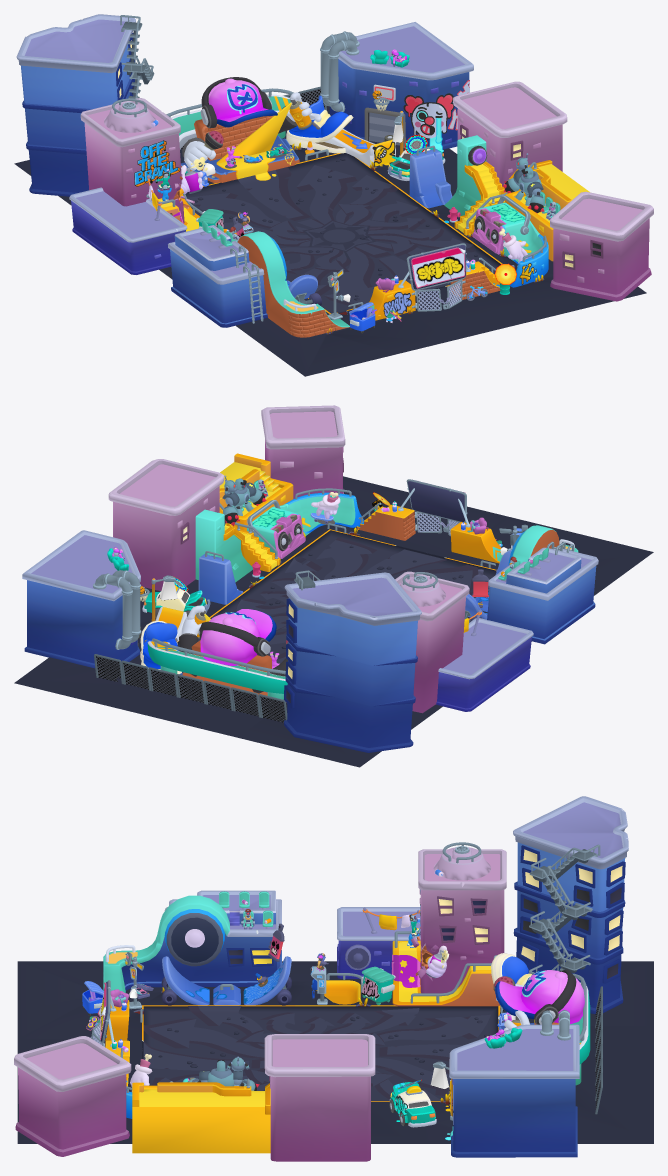
File: skatepark_environment.glb
3 renders of one model, top to bottom at view 1: azimuth 30°, elevation 25°; view 2: azimuth 150°, elevation 25°; view 3: azimuth 270°, elevation 25°, orthographic. The views are drawn at different scales.
Visible parts, largest first — view 1: bgr_skatepark_playground_bup_003, bgr_skatepark_ground_side_001, bgr_skatepark_House_001, bgr_skatepark_BuildingStairs_001, bgr_skatepark_BuildingCorner_001, bgr_skatepark_Building1_001, bgr_skatepark_Building4_001, bgr_skatepark_building5_001, bgr_skatepark_building4_003, bgr_skatepark_BoomboxRamp_008, bgr_skatepark_cap_007, bgr_skatepark_spraystage_002 (+19 smaller); view 2: bgr_skatepark_House_001, bgr_skatepark_ground_side_001, bgr_skatepark_BuildingStairs_001, bgr_skatepark_BuildingCorner_001, bgr_skatepark_Building1_001, bgr_skatepark_playground_bup_003, bgr_skatepark_Building4_001, bgr_skatepark_building4_003, bgr_skatepark_building5_001, bgr_skatepark_BoomboxRamp_008, bgr_skatepark_planefdence_001, bgr_skatepark_topramp_001 (+14 smaller); view 3: bgr_skatepark_ground_side_001, bgr_skatepark_BuildingStairs_001, bgr_skatepark_playground_bup_003, bgr_skatepark_House_001, bgr_skatepark_BuildingCorner_001, bgr_skatepark_Building1_001, bgr_skatepark_Building4_001, bgr_skatepark_building5_001, bgr_skatepark_building4_003, bgr_skatepark_Staircase_001, bgr_skatepark_ramp3_001, bgr_skatepark_cap_007 (+12 smaller).
Part boxes in pixels (<box>): bgr_skatepark_playground_bup_003: <box>185,153,500,313</box>; bgr_skatepark_ground_side_001: <box>14,106,646,376</box>; bgr_skatepark_House_001: <box>16,14,135,196</box>; bgr_skatepark_BuildingStairs_001: <box>444,81,589,261</box>; bgr_skatepark_BuildingCorner_001: <box>320,22,473,149</box>; bgr_skatepark_Building1_001: <box>168,221,349,337</box>; bgr_skatepark_Building4_001: <box>550,191,653,301</box>; bgr_skatepark_building5_001: <box>80,98,184,223</box>; bgr_skatepark_building4_003: <box>69,187,187,274</box>; bgr_skatepark_BoomboxRamp_008: <box>472,195,548,287</box>; bgr_skatepark_cap_007: <box>208,78,277,127</box>; bgr_skatepark_spraystage_002: <box>216,102,291,179</box>; bgr_skatepark_House_001: <box>284,572,421,752</box>; bgr_skatepark_ground_side_001: <box>14,476,653,767</box>; bgr_skatepark_BuildingStairs_001: <box>108,453,293,591</box>; bgr_skatepark_BuildingCorner_001: <box>22,530,149,668</box>; bgr_skatepark_Building1_001: <box>487,525,598,644</box>; bgr_skatepark_playground_bup_003: <box>177,530,496,663</box>; bgr_skatepark_Building4_001: <box>261,405,345,498</box>; bgr_skatepark_building4_003: <box>436,618,533,711</box>; bgr_skatepark_building5_001: <box>395,571,469,713</box>; bgr_skatepark_BoomboxRamp_008: <box>247,488,364,558</box>; bgr_skatepark_planefdence_001: <box>96,656,285,722</box>; bgr_skatepark_topramp_001: <box>147,638,287,699</box>; bgr_skatepark_ground_side_001: <box>17,961,653,1143</box>; bgr_skatepark_BuildingStairs_001: <box>132,1034,375,1161</box>; bgr_skatepark_playground_bup_003: <box>143,1006,498,1101</box>; bgr_skatepark_House_001: <box>513,796,628,1014</box>; bgr_skatepark_BuildingCorner_001: <box>449,1010,579,1157</box>; bgr_skatepark_Building1_001: <box>103,890,281,992</box>; bgr_skatepark_Building4_001: <box>14,1036,131,1156</box>; bgr_skatepark_building5_001: <box>418,842,506,993</box>; bgr_skatepark_building4_003: <box>337,907,420,978</box>; bgr_skatepark_Staircase_001: <box>529,844,600,974</box>; bgr_skatepark_ramp3_001: <box>392,931,499,1006</box>; bgr_skatepark_cap_007: <box>495,970,584,1024</box>.
Size of the model in its own units: 48.29 by 17.76 by 59.99.
16 materials, 16 textured.
